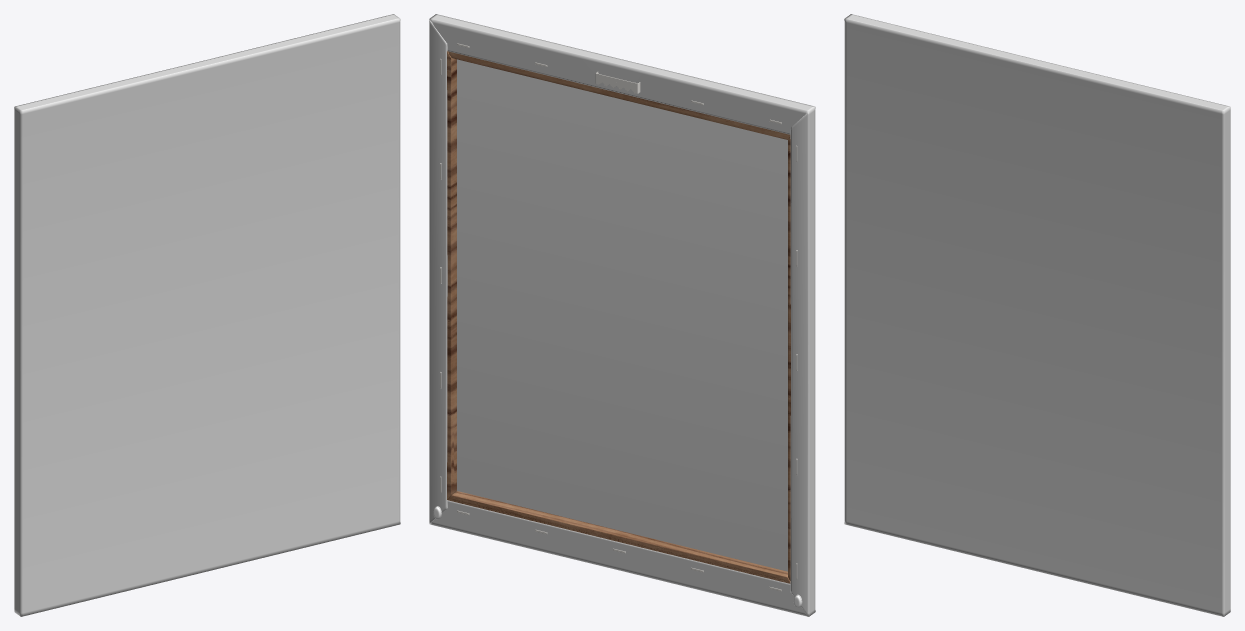
File: portrait.glb
The picture shows the model from 3 angles, left to right: view 1: azimuth 30°, elevation 25°; view 2: azimuth 150°, elevation 25°; view 3: azimuth 330°, elevation 25°; orthographic projection.
Visible parts, largest first — view 1: 11x14-standard; view 2: 11x14-standard; view 3: 11x14-standard.
Boxes of the visible parts, bbox=[...] form: 11x14-standard: bbox=[14, 14, 400, 616]; 11x14-standard: bbox=[429, 14, 815, 616]; 11x14-standard: bbox=[844, 14, 1230, 616].
Size of the model in its own units: 11 by 14 by 0.451.
Materials: 7 (3 with a texture image).
